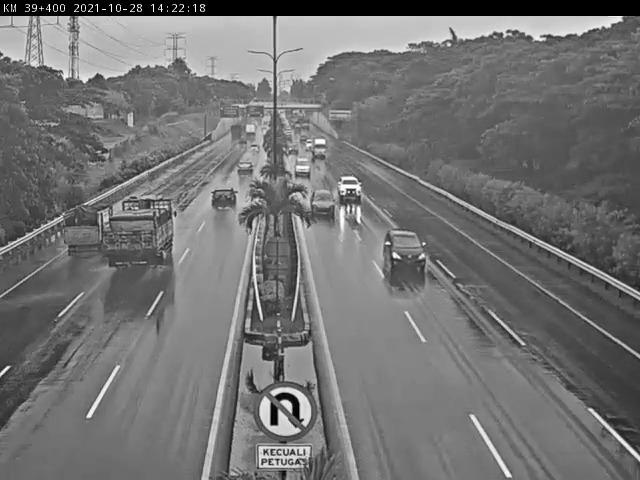car: (376, 226, 431, 275), (208, 185, 240, 212), (336, 173, 363, 201), (309, 189, 335, 216), (293, 154, 312, 177), (235, 159, 257, 178), (249, 140, 262, 155)
small truck: (105, 195, 188, 277), (57, 201, 106, 266)
